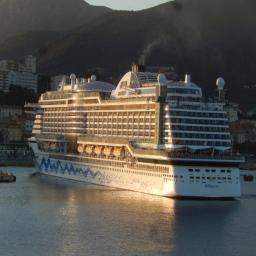cruises: (26, 57, 245, 204)
